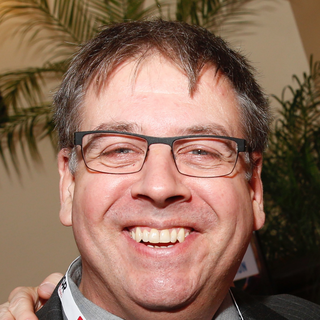eye: (98, 142, 144, 161), (179, 145, 222, 161)
